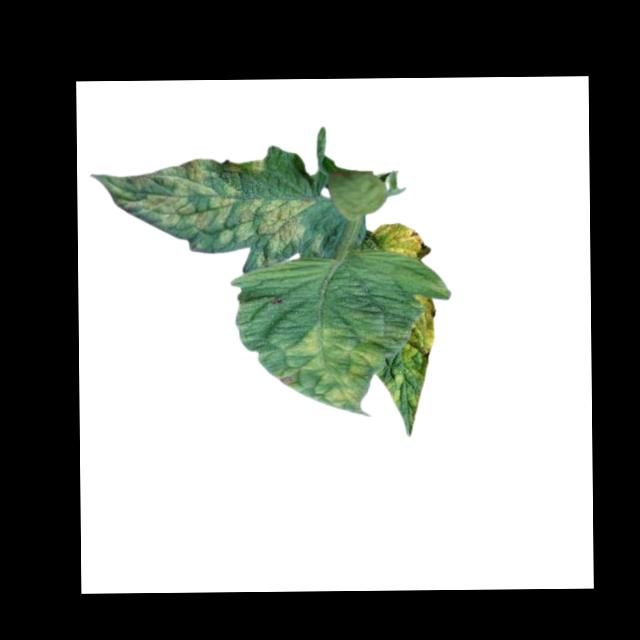Leaf_Mold: (89, 155, 306, 267), (278, 324, 383, 413), (403, 292, 438, 361), (371, 223, 430, 261)
